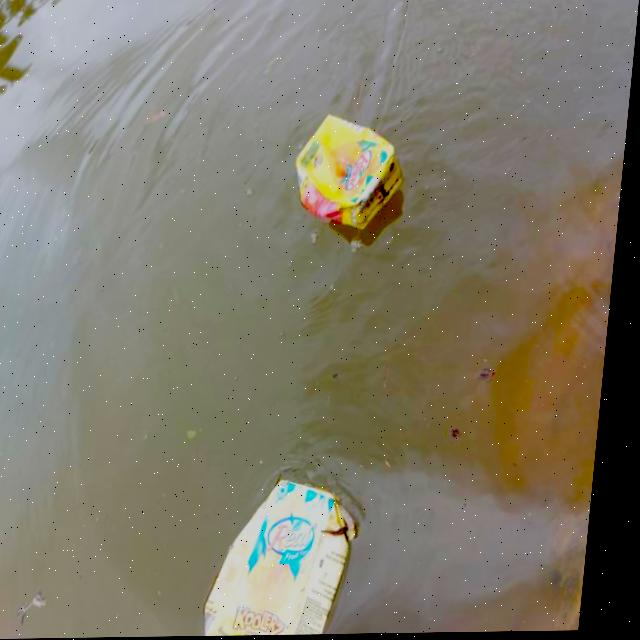paper: (202, 472, 378, 637), (292, 111, 420, 239)
